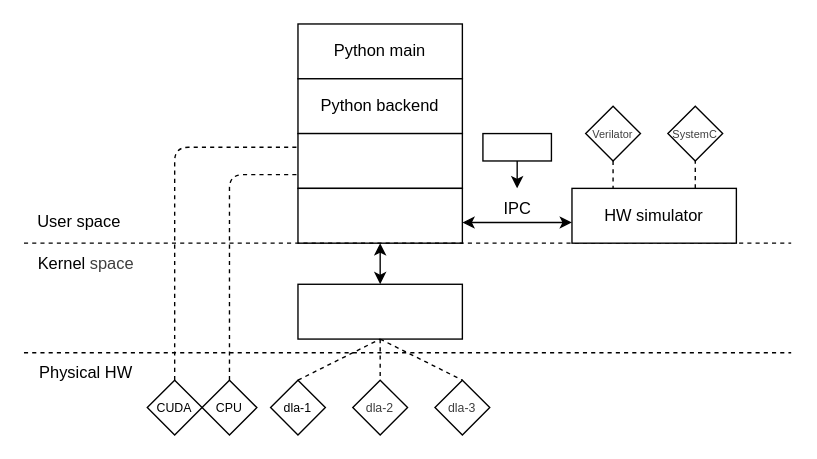
Some shapes in this 817 by 459 pixel diagram are drawn without their labels. Each missing label, with the centre of its shape:
cpp backend: the point at 379,160
Device Driver (Reserved): the point at 379,311
HAL: the point at 379,215
SHM: the point at 516,146
